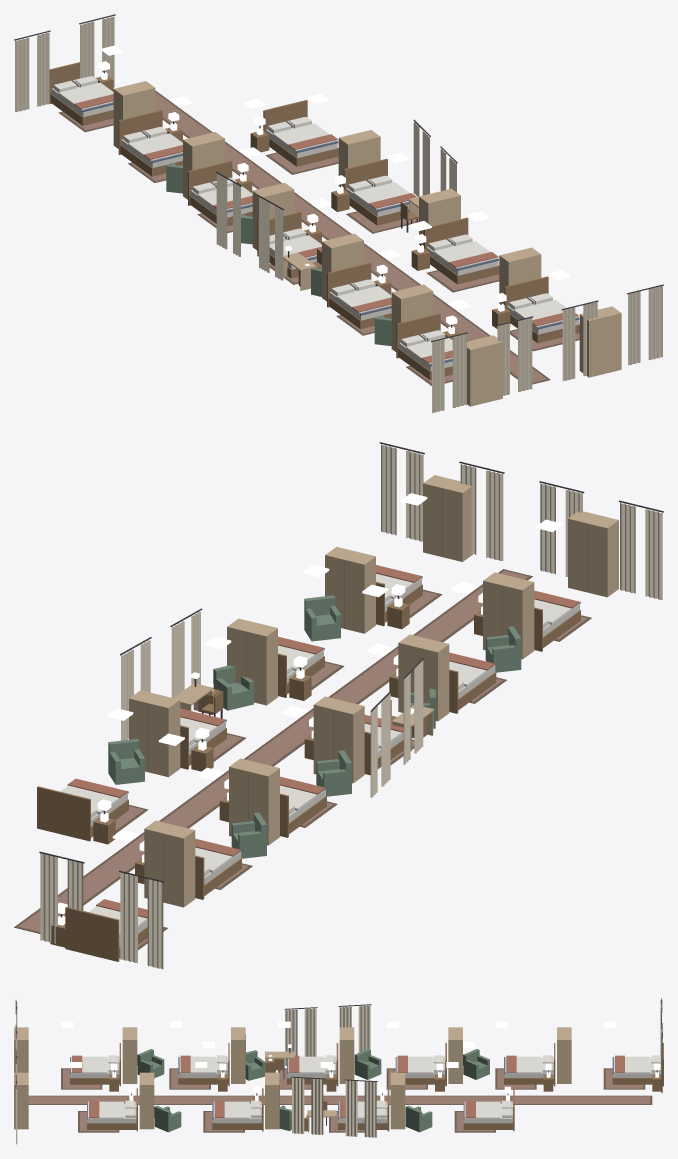
File: fine-s1.glb
The picture shows the model from 3 angles, top to bottom: view 1: azimuth 30°, elevation 25°; view 2: azimuth 150°, elevation 25°; view 3: azimuth 270°, elevation 25°; orthographic projection. The views are drawn at different scales.
Visible parts, largest first — view 1: soft-s1, dresser.003, dresser.009, bed-frame.000, bed-frame.002, bed-frame.005, bed-frame.008, bed-frame.001, bed-frame.004, bed-frame.003, dresser.004, dresser.008 (+10 smaller); view 2: soft-s1, dresser.009, dresser.003, dresser.004, dresser.002, dresser.000, dresser.001, dresser.008, dresser.006, dresser.005, dresser.007, bed-frame.000 (+13 smaller); view 3: soft-s1, dresser.000, dresser.002, dresser.008, dresser.006, dresser.001, dresser.004, dresser.007, dresser.003, dresser.005, bed-frame.002, bed-frame.000 (+17 smaller).
Boxes of the visible parts, x1,y1,x2,y2 form: soft-s1: [14, 14, 663, 413]; dresser.003: [579, 306, 621, 377]; dresser.009: [467, 335, 502, 406]; bed-frame.000: [263, 100, 338, 166]; bed-frame.002: [424, 217, 499, 284]; bed-frame.005: [118, 110, 182, 176]; bed-frame.008: [327, 262, 391, 329]; bed-frame.001: [343, 158, 409, 225]; bed-frame.004: [49, 62, 113, 125]; bed-frame.003: [504, 276, 579, 343]; dresser.004: [113, 81, 155, 148]; dresser.008: [391, 284, 433, 351]; soft-s1: [14, 442, 663, 969]; dresser.009: [568, 511, 618, 597]; dresser.003: [423, 475, 473, 561]; dresser.004: [144, 820, 195, 907]; dresser.002: [325, 546, 375, 633]; dresser.000: [129, 690, 180, 777]; dresser.001: [227, 618, 277, 705]; dresser.008: [483, 572, 534, 659]; dresser.006: [313, 696, 364, 783]; dresser.005: [229, 758, 279, 845]; dresser.007: [398, 634, 449, 721]; bed-frame.000: [37, 786, 128, 841]; soft-s1: [15, 998, 662, 1144]; dresser.000: [390, 1072, 405, 1129]; dresser.002: [139, 1072, 154, 1129]; dresser.008: [122, 1027, 137, 1083]; dresser.006: [339, 1027, 354, 1083]; dresser.001: [265, 1072, 279, 1129]; dresser.004: [557, 1027, 571, 1083]; dresser.007: [231, 1027, 245, 1083]; dresser.003: [14, 1072, 28, 1129]; dresser.005: [448, 1027, 462, 1083]; bed-frame.002: [212, 1088, 263, 1131]; bed-frame.000: [463, 1088, 514, 1131].
Size of the model in its own units: 8.73 by 2.61 by 26.62.
